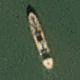ship: (0, 7, 19, 73)
